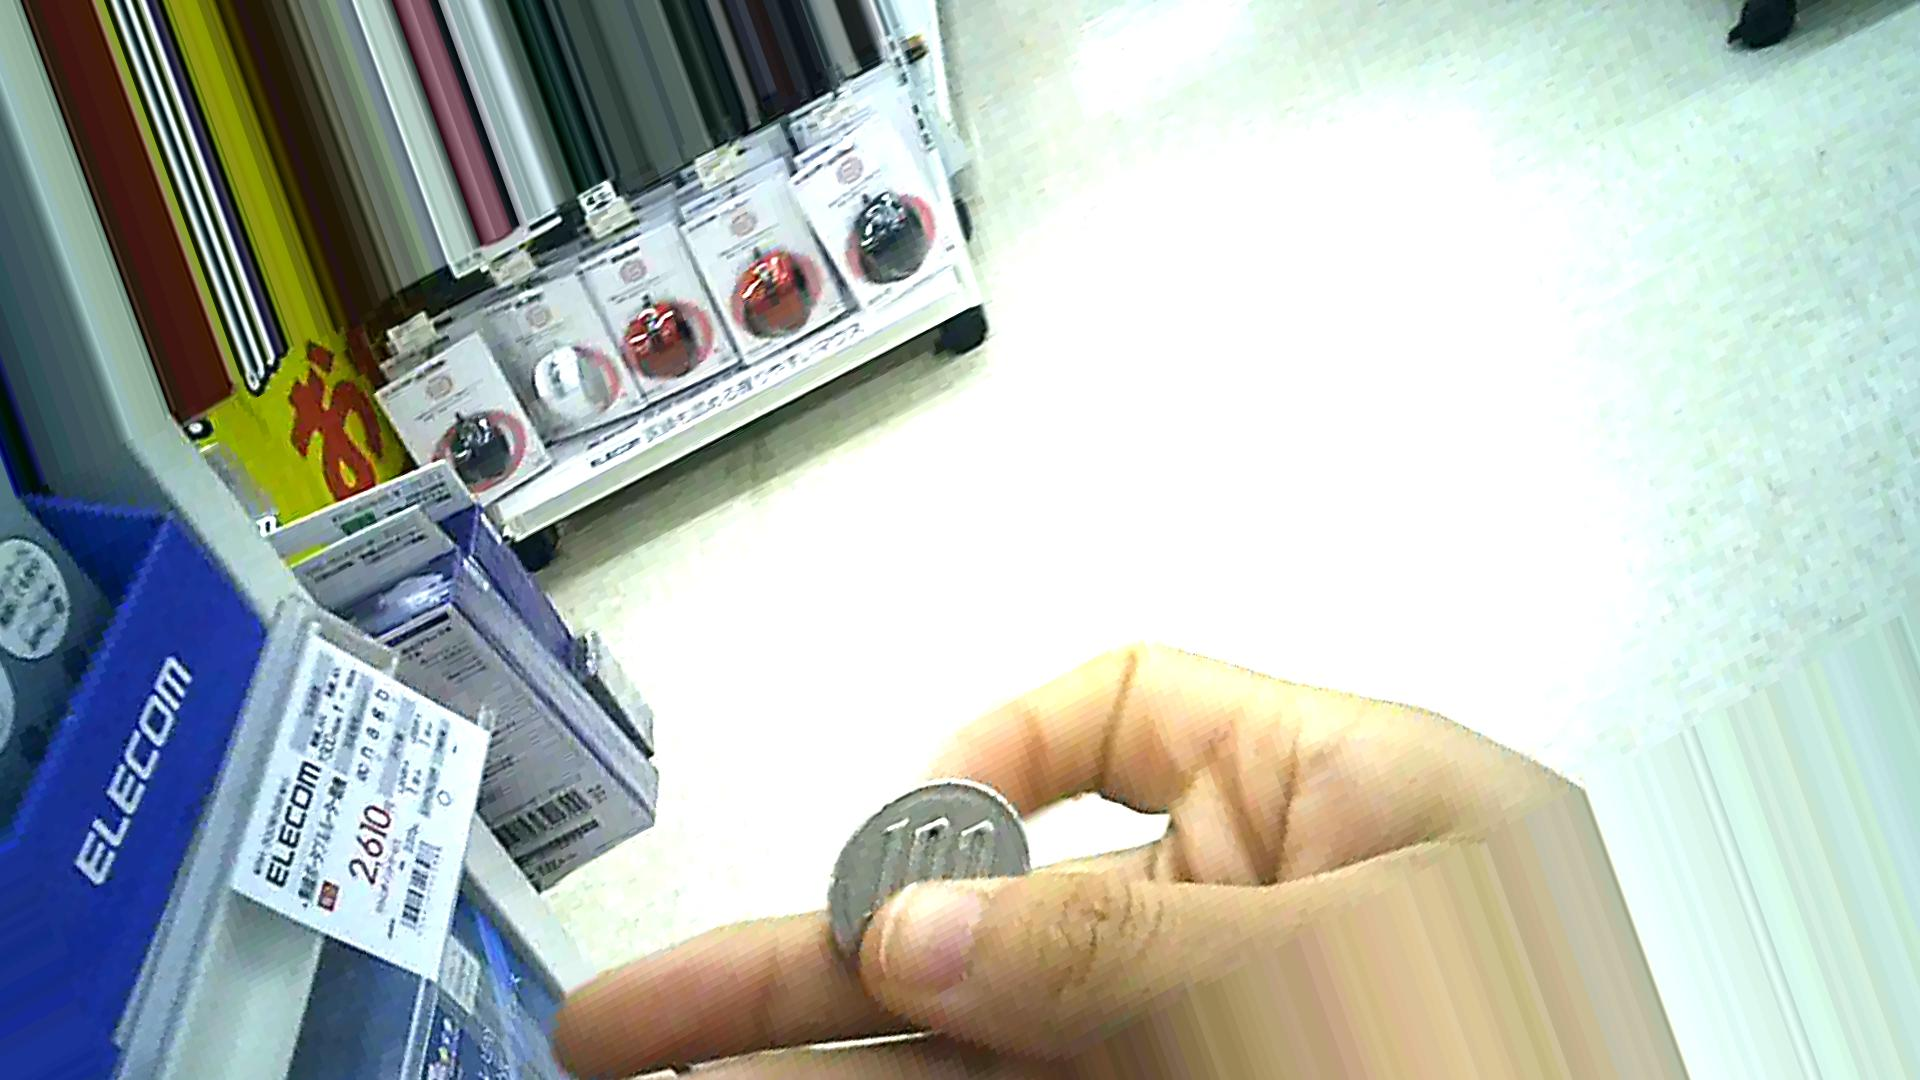100 Yen: (820, 789, 1036, 945)
